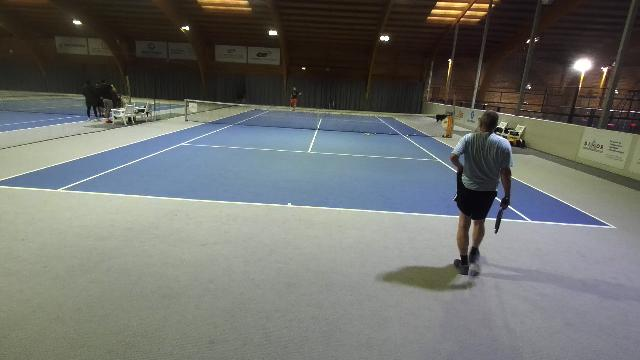tennisball: (366, 132, 370, 136), (373, 132, 377, 136), (388, 131, 392, 135), (405, 134, 409, 138), (364, 132, 366, 136), (414, 133, 416, 137), (300, 93, 300, 96)
